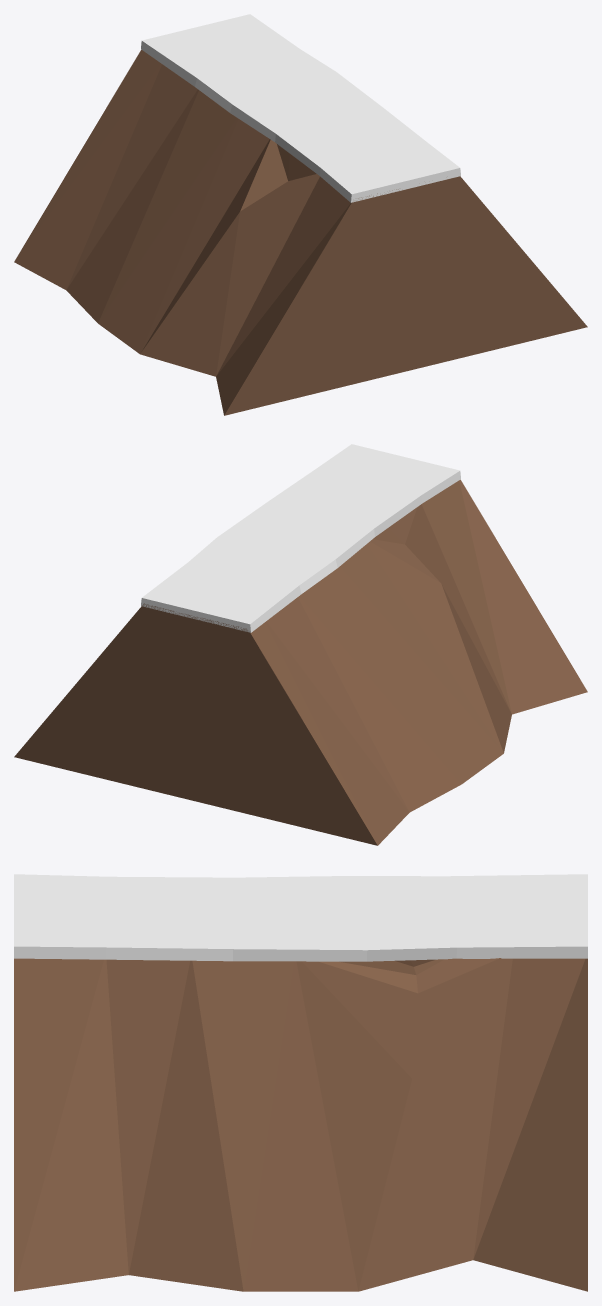
The model's file is Path_05.fbx.
The picture shows the model from 3 angles, top to bottom: view 1: azimuth 30°, elevation 25°; view 2: azimuth 150°, elevation 25°; view 3: azimuth 270°, elevation 25°; orthographic projection. The views are drawn at different scales.
Visible parts, largest first — view 1: Path_05; view 2: Path_05; view 3: Path_05.
Boxes of the visible parts, x1,y1,x2,y2 form: Path_05: (14,14,587,415); Path_05: (14,444,587,845); Path_05: (14,874,587,1291).
Size of the model in its own units: 200 by 100 by 200.
Materials: 2 (1 with a texture image).
